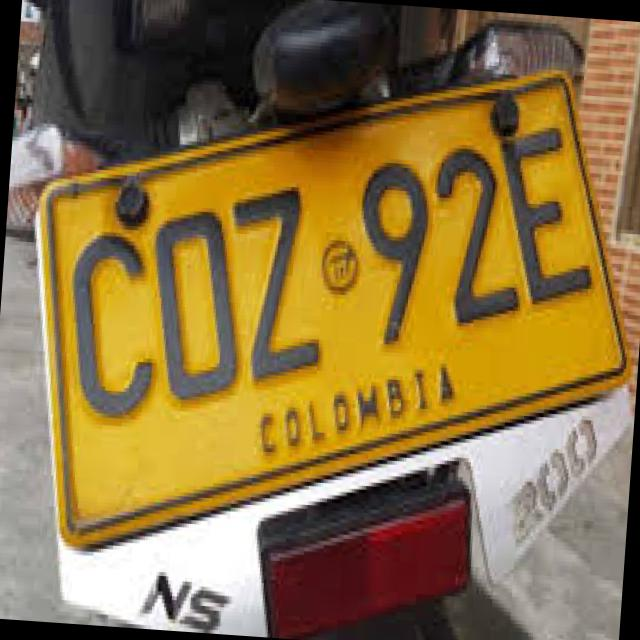number plate: (36, 69, 624, 539)
